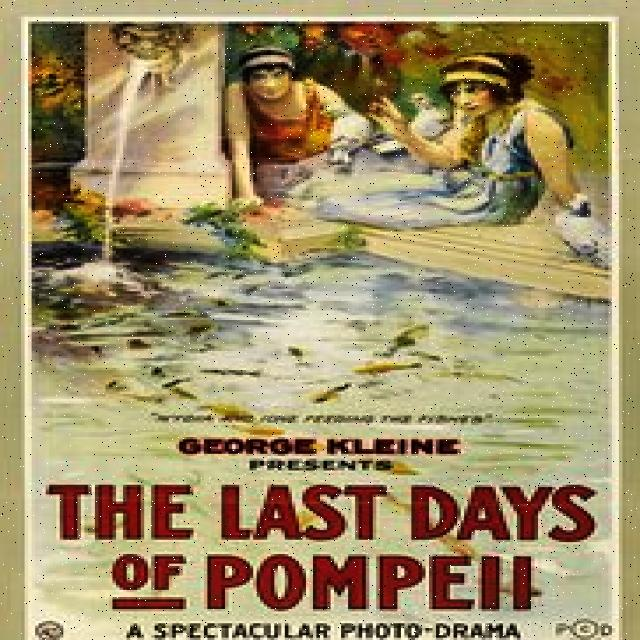movie-judul: (38, 477, 602, 613)
picture: (30, 24, 610, 415)
